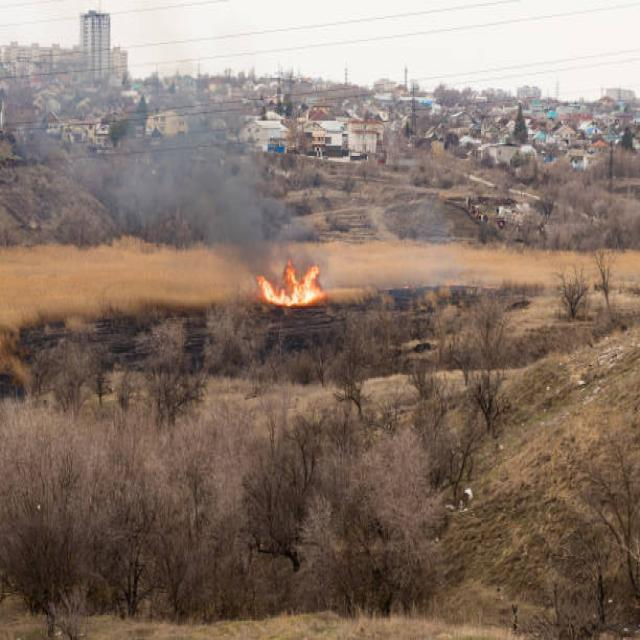Fire: (260, 264, 326, 304)
Smoke: (207, 154, 293, 280), (136, 158, 222, 208)
